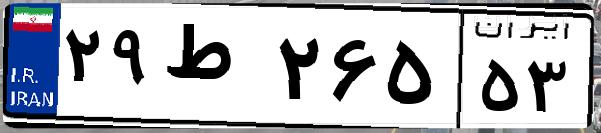2: (270, 28, 330, 110), (57, 26, 110, 100)
3: (525, 38, 570, 115)
5: (385, 28, 445, 110), (475, 38, 525, 113)
6: (330, 28, 385, 110)
9: (110, 28, 158, 98)
ط: (158, 20, 270, 120)
